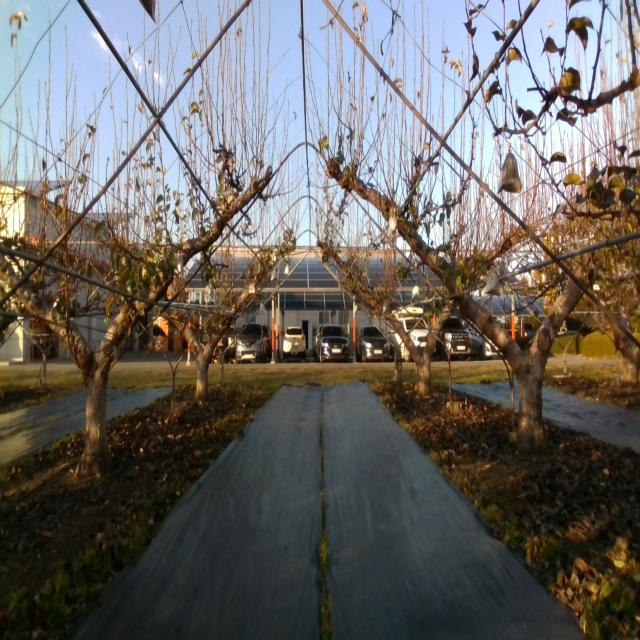pearbags: (497, 151, 523, 194), (486, 272, 502, 297)
